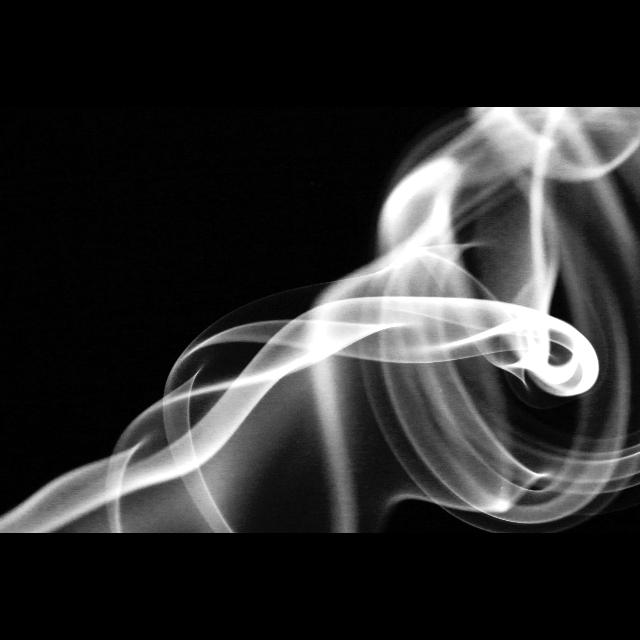smoke: (105, 107, 640, 534)
